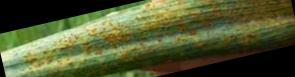Wheat: (18, 48, 83, 73), (190, 7, 223, 45), (256, 1, 294, 30), (225, 5, 254, 42), (88, 23, 120, 40)
